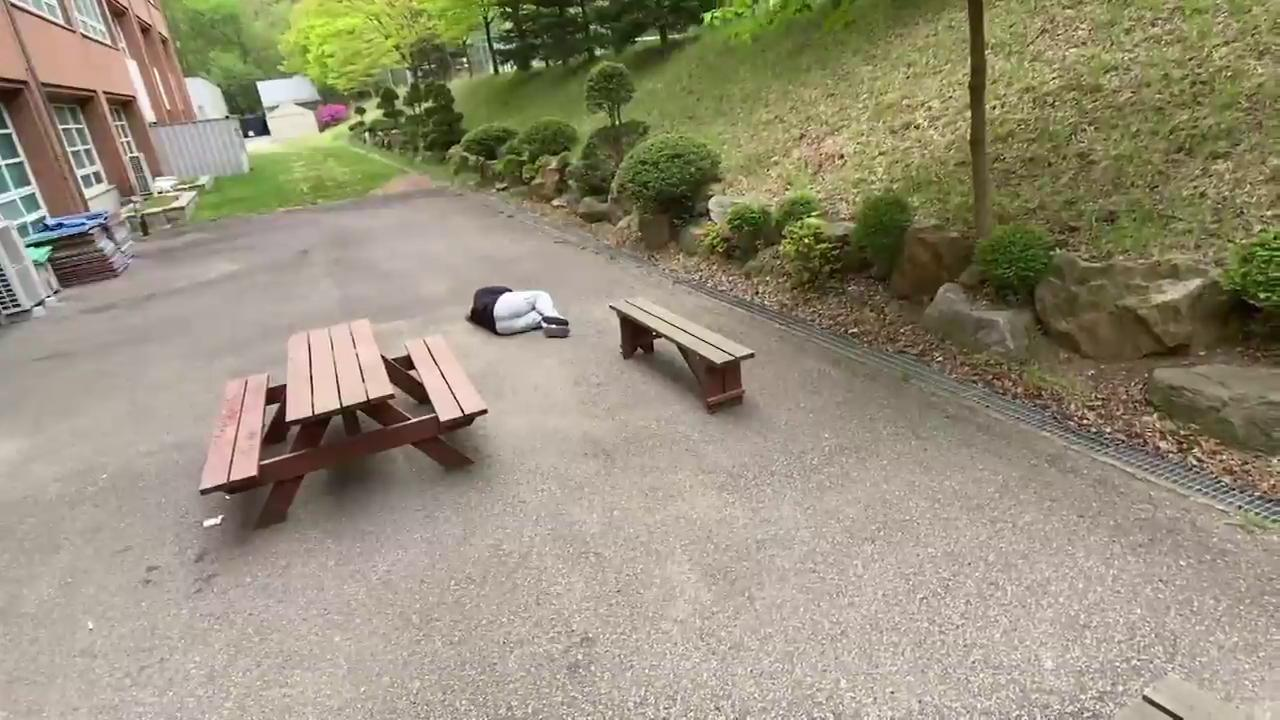faint: (464, 286, 573, 340)
